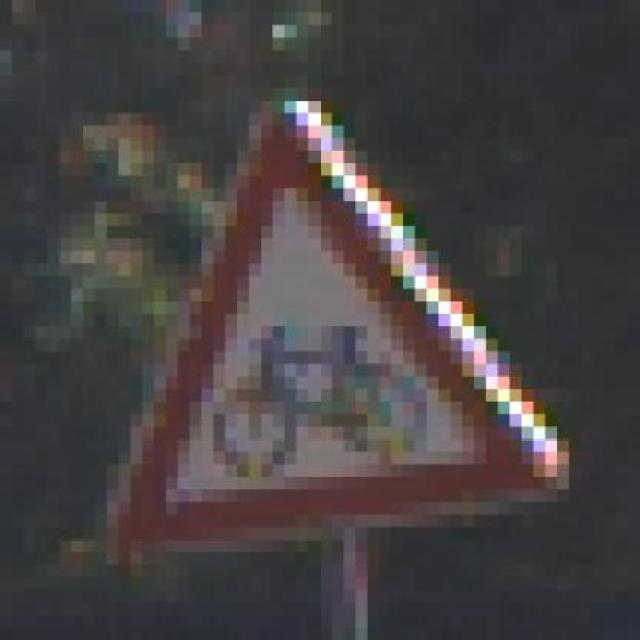CYCLE ROUTE AHEAD WARNING: (71, 75, 569, 578)
